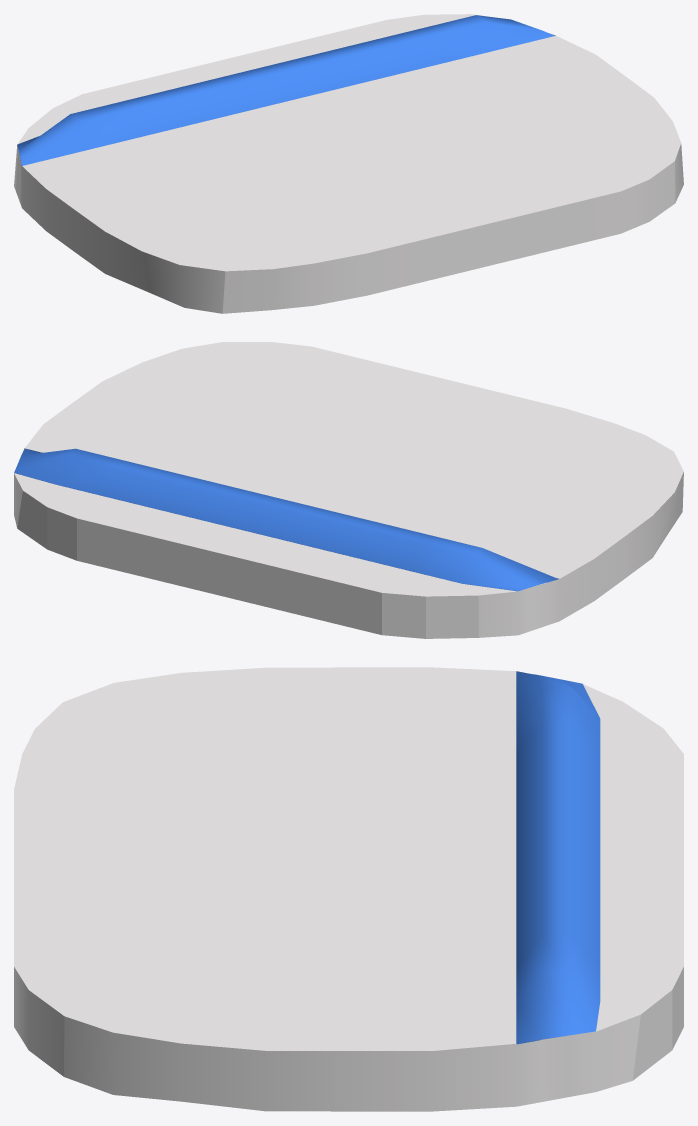
Rendered from key card model blu.fbx.
The picture shows the model from 3 angles, top to bottom: view 1: azimuth 30°, elevation 25°; view 2: azimuth 150°, elevation 25°; view 3: azimuth 270°, elevation 25°; orthographic projection. The views are drawn at different scales.
Parts seen in each view (by area): view 1: pPlane1; view 2: pPlane1; view 3: pPlane1.
Boxes of the visible parts, left/top/right/bottom form: pPlane1: left=14, top=14, right=683, bottom=313; pPlane1: left=14, top=342, right=683, bottom=638; pPlane1: left=14, top=667, right=683, bottom=1111.
Bounding box in the file's own units: 6.18 × 0.6778 × 4.56.
1 material, 1 textured.
